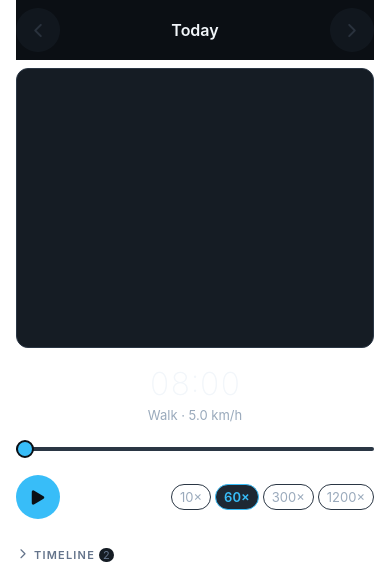
the player › advances the playhead while playing
Click the button named "Play" at {"x": 38, "y": 497}, box top-left (16, 475), bottom-right (60, 519)
Wait 2000 ms
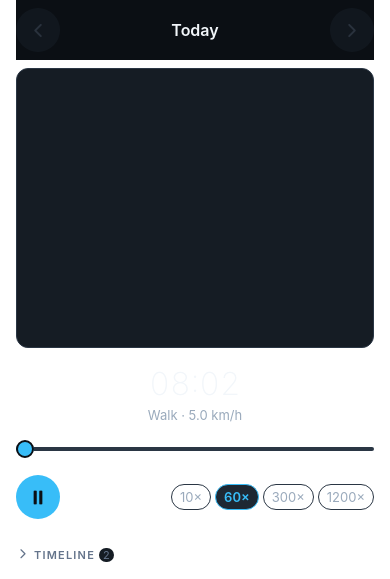
Check: the button named "Pause" is shown, box top-left (16, 475), bottom-right (60, 519)
